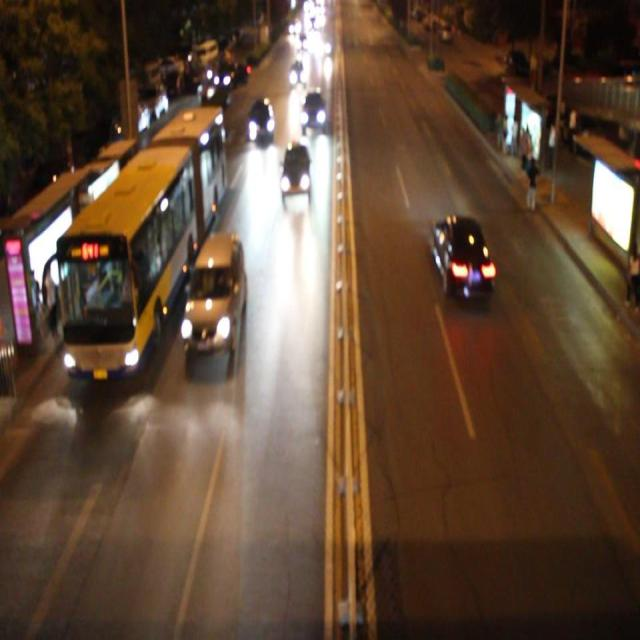car: (432, 215, 494, 301), (279, 140, 311, 201), (300, 87, 327, 133), (248, 98, 274, 144), (286, 56, 306, 88)
truck: (186, 234, 246, 356)
van: (54, 102, 219, 376)
